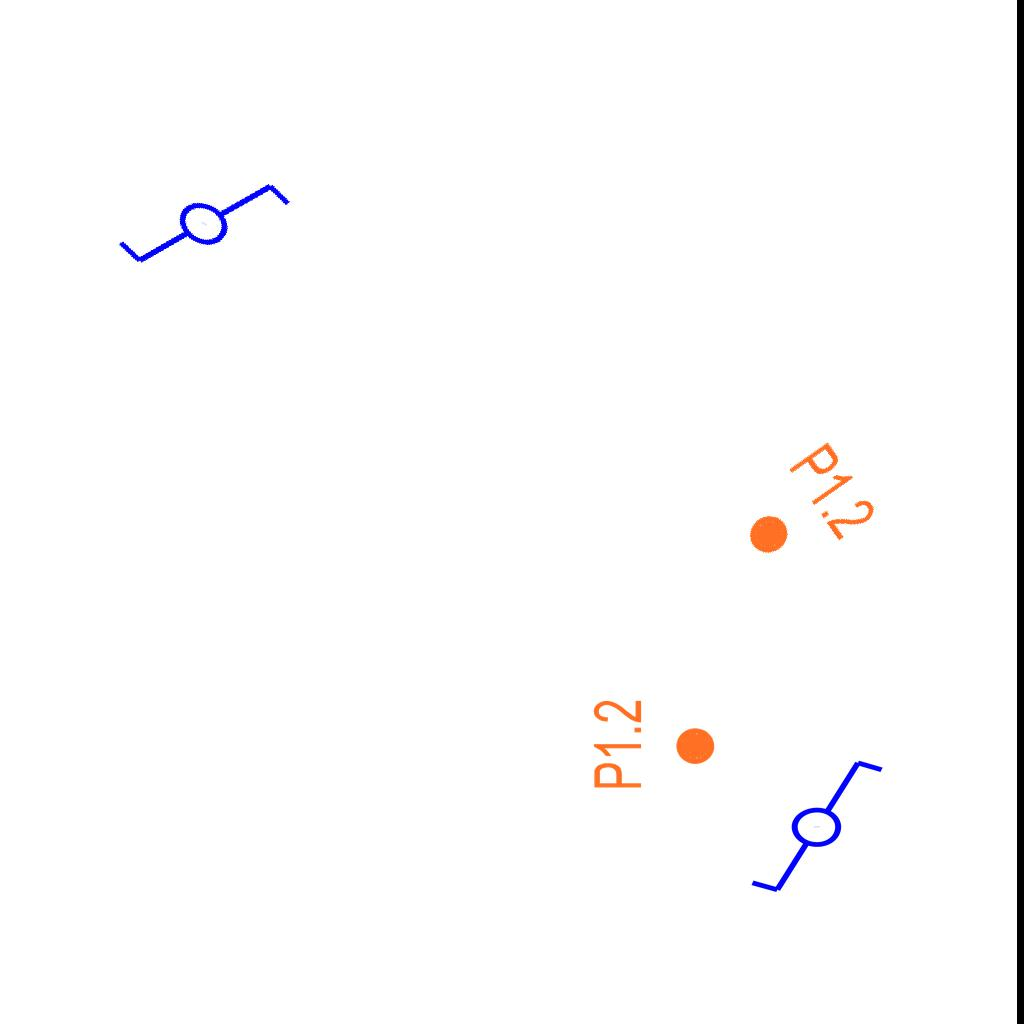Downlight_LED_Einbauleuchten_Flur: (724, 437, 883, 587), (590, 698, 718, 791)
Wechselschalter: (94, 117, 301, 319), (730, 753, 887, 897)
